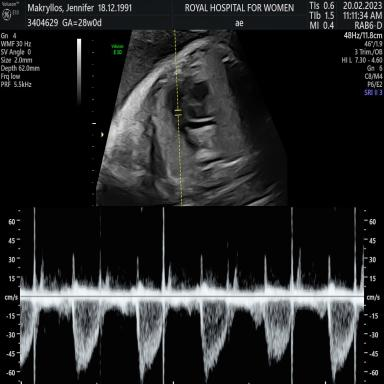Ultrasound-Waves: (26, 210, 358, 384)
